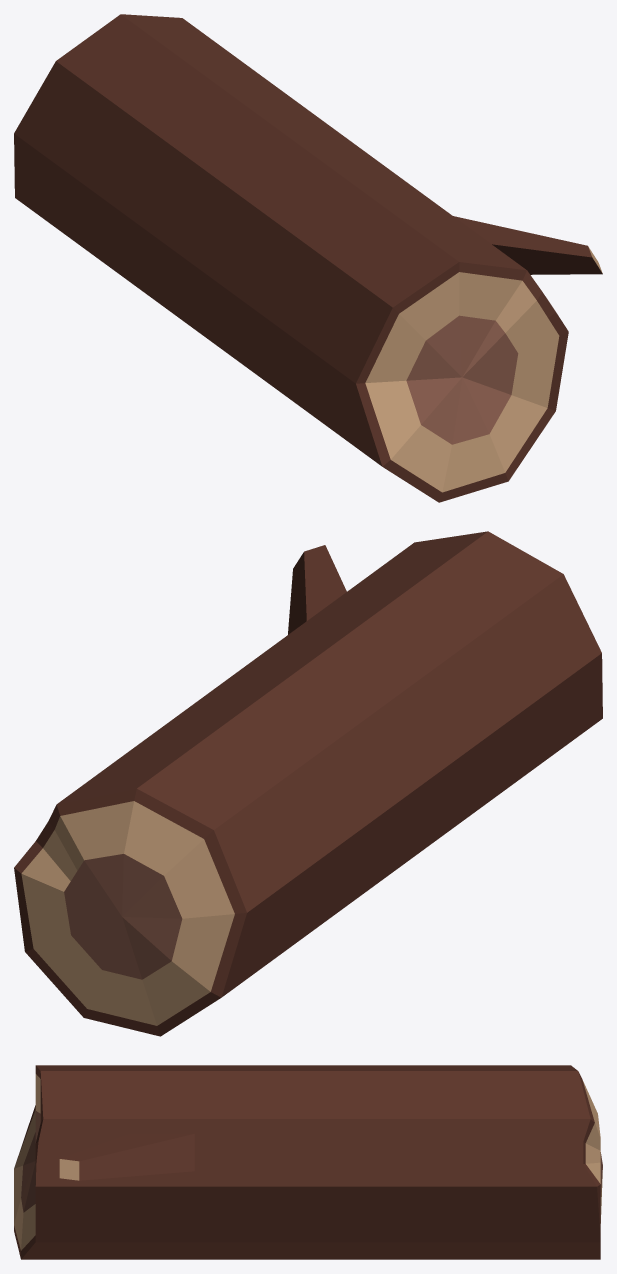
The model's file is Resource_Wood_Large.fbx.
The picture shows the model from 3 angles, top to bottom: view 1: azimuth 30°, elevation 25°; view 2: azimuth 150°, elevation 25°; view 3: azimuth 270°, elevation 25°; orthographic projection. The views are drawn at different scales.
Parts seen in each view (by area): view 1: Cylinder; view 2: Cylinder; view 3: Cylinder.
Boxes of the visible parts, x1,y1,x2,y2 form: Cylinder: [14, 14, 602, 502]; Cylinder: [14, 531, 602, 1036]; Cylinder: [14, 1065, 602, 1259].
Size of the model in its own units: 125 by 96.98 by 297.
